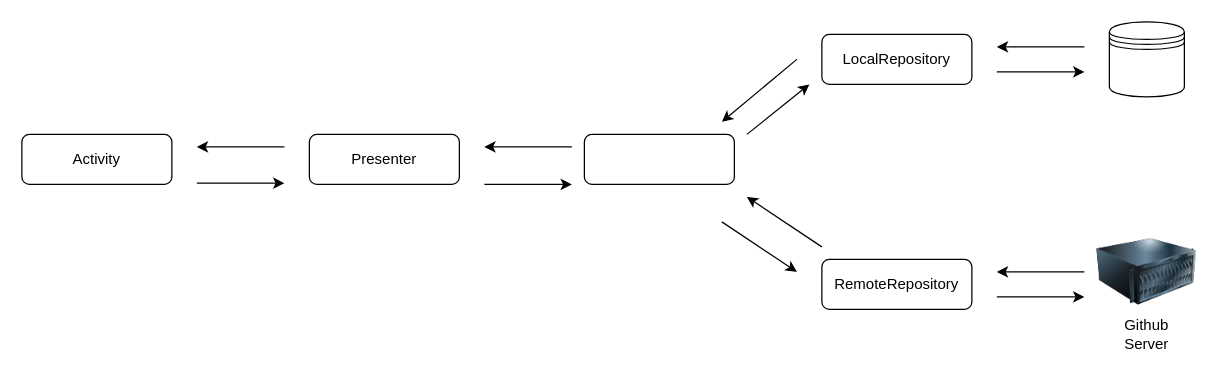
This 1219x374 diagram has some shape labels left out. The box of each missing label's shape, as (x1, y1, x2, y2) in pixels:
Local Database: (1108, 21, 1184, 97)
MainRepository: (583, 133, 734, 184)
